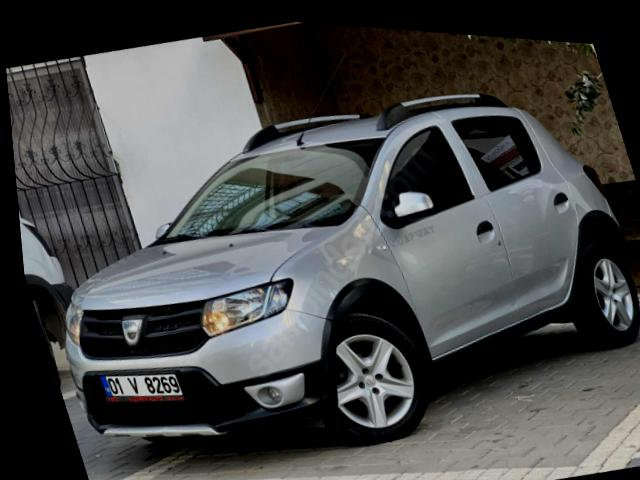plaka: (100, 372, 184, 401)
